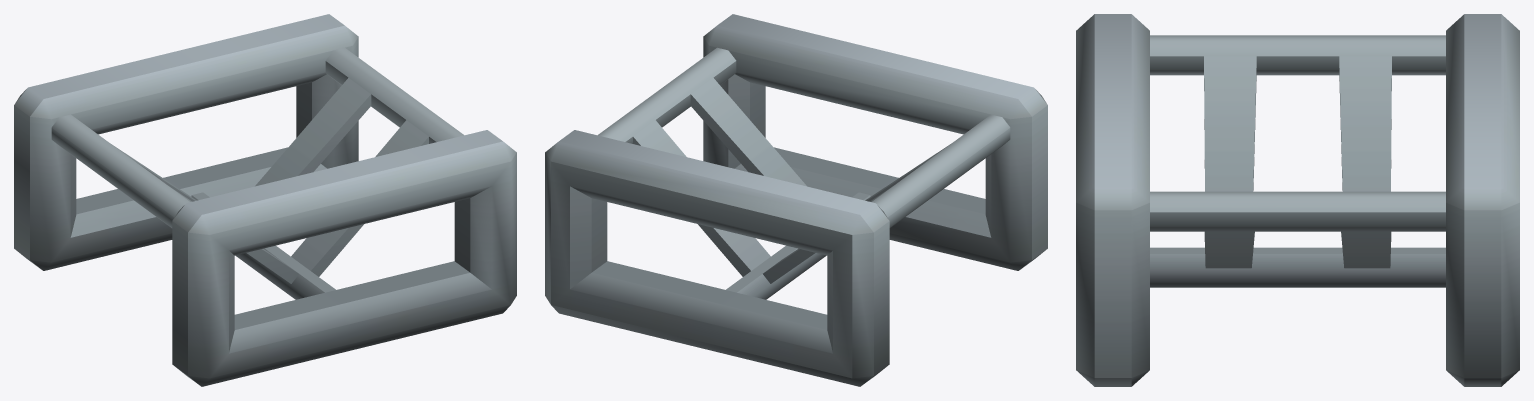
Rendered from kaykit-restaurant-bits-dishrack.glb.
The picture shows the model from 3 angles, left to right: view 1: azimuth 30°, elevation 25°; view 2: azimuth 150°, elevation 25°; view 3: azimuth 270°, elevation 25°; orthographic projection. The views are drawn at different scales.
Visible parts, largest first — view 1: dishrack; view 2: dishrack; view 3: dishrack.
Boxes of the visible parts, <box> form: dishrack: <box>14,14,516,386</box>; dishrack: <box>545,14,1047,386</box>; dishrack: <box>1076,14,1519,386</box>.
Bounding box in the file's own units: 1.2 × 0.6001 × 1.2.
Materials: 1 (1 with a texture image).
